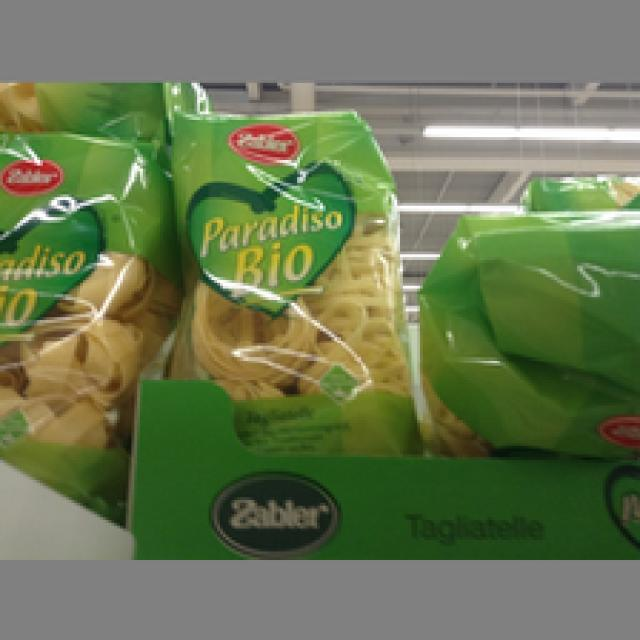groceries: (166, 103, 426, 448), (0, 126, 163, 508), (417, 203, 637, 451)
